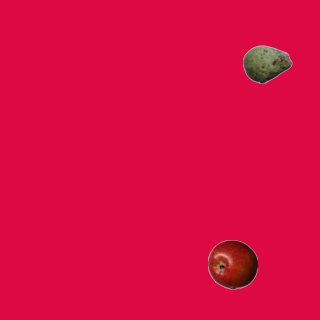Apple Braeburn: (207, 239, 257, 289)
Pear Stone: (242, 39, 292, 89)
